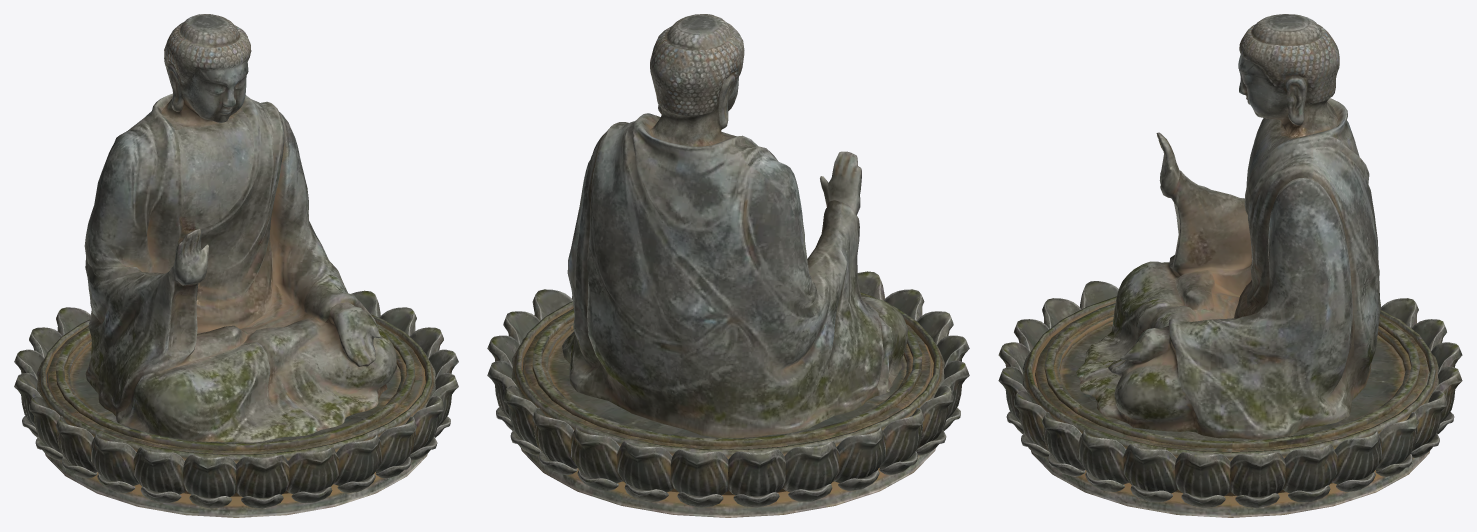
File: statue1.glb
3 renders of one model, left to right at view 1: azimuth 30°, elevation 25°; view 2: azimuth 150°, elevation 25°; view 3: azimuth 270°, elevation 25°, orthographic. The views are drawn at different scales.
Visible parts, largest first — view 1: fo_L:polySurface18_fo_L:initialShadingGroup1_0, all_LOW:polySurface15group3_all_LOW:initialShadingGroup1_0; view 2: fo_L:polySurface18_fo_L:initialShadingGroup1_0, all_LOW:polySurface15group3_all_LOW:initialShadingGroup1_0; view 3: fo_L:polySurface18_fo_L:initialShadingGroup1_0, all_LOW:polySurface15group3_all_LOW:initialShadingGroup1_0.
Boxes of the visible parts, x1=… form: fo_L:polySurface18_fo_L:initialShadingGroup1_0: x1=84, y1=14, x2=396, y2=442; all_LOW:polySurface15group3_all_LOW:initialShadingGroup1_0: x1=14, y1=290, x2=458, y2=517; fo_L:polySurface18_fo_L:initialShadingGroup1_0: x1=562, y1=14, x2=907, y2=437; all_LOW:polySurface15group3_all_LOW:initialShadingGroup1_0: x1=487, y1=271, x2=969, y2=517; fo_L:polySurface18_fo_L:initialShadingGroup1_0: x1=1076, y1=14, x2=1380, y2=439; all_LOW:polySurface15group3_all_LOW:initialShadingGroup1_0: x1=998, y1=281, x2=1462, y2=517.
Size of the model in its own units: 0.0397 by 0.0388 by 0.0397.
Materials: 2 (2 with a texture image).
